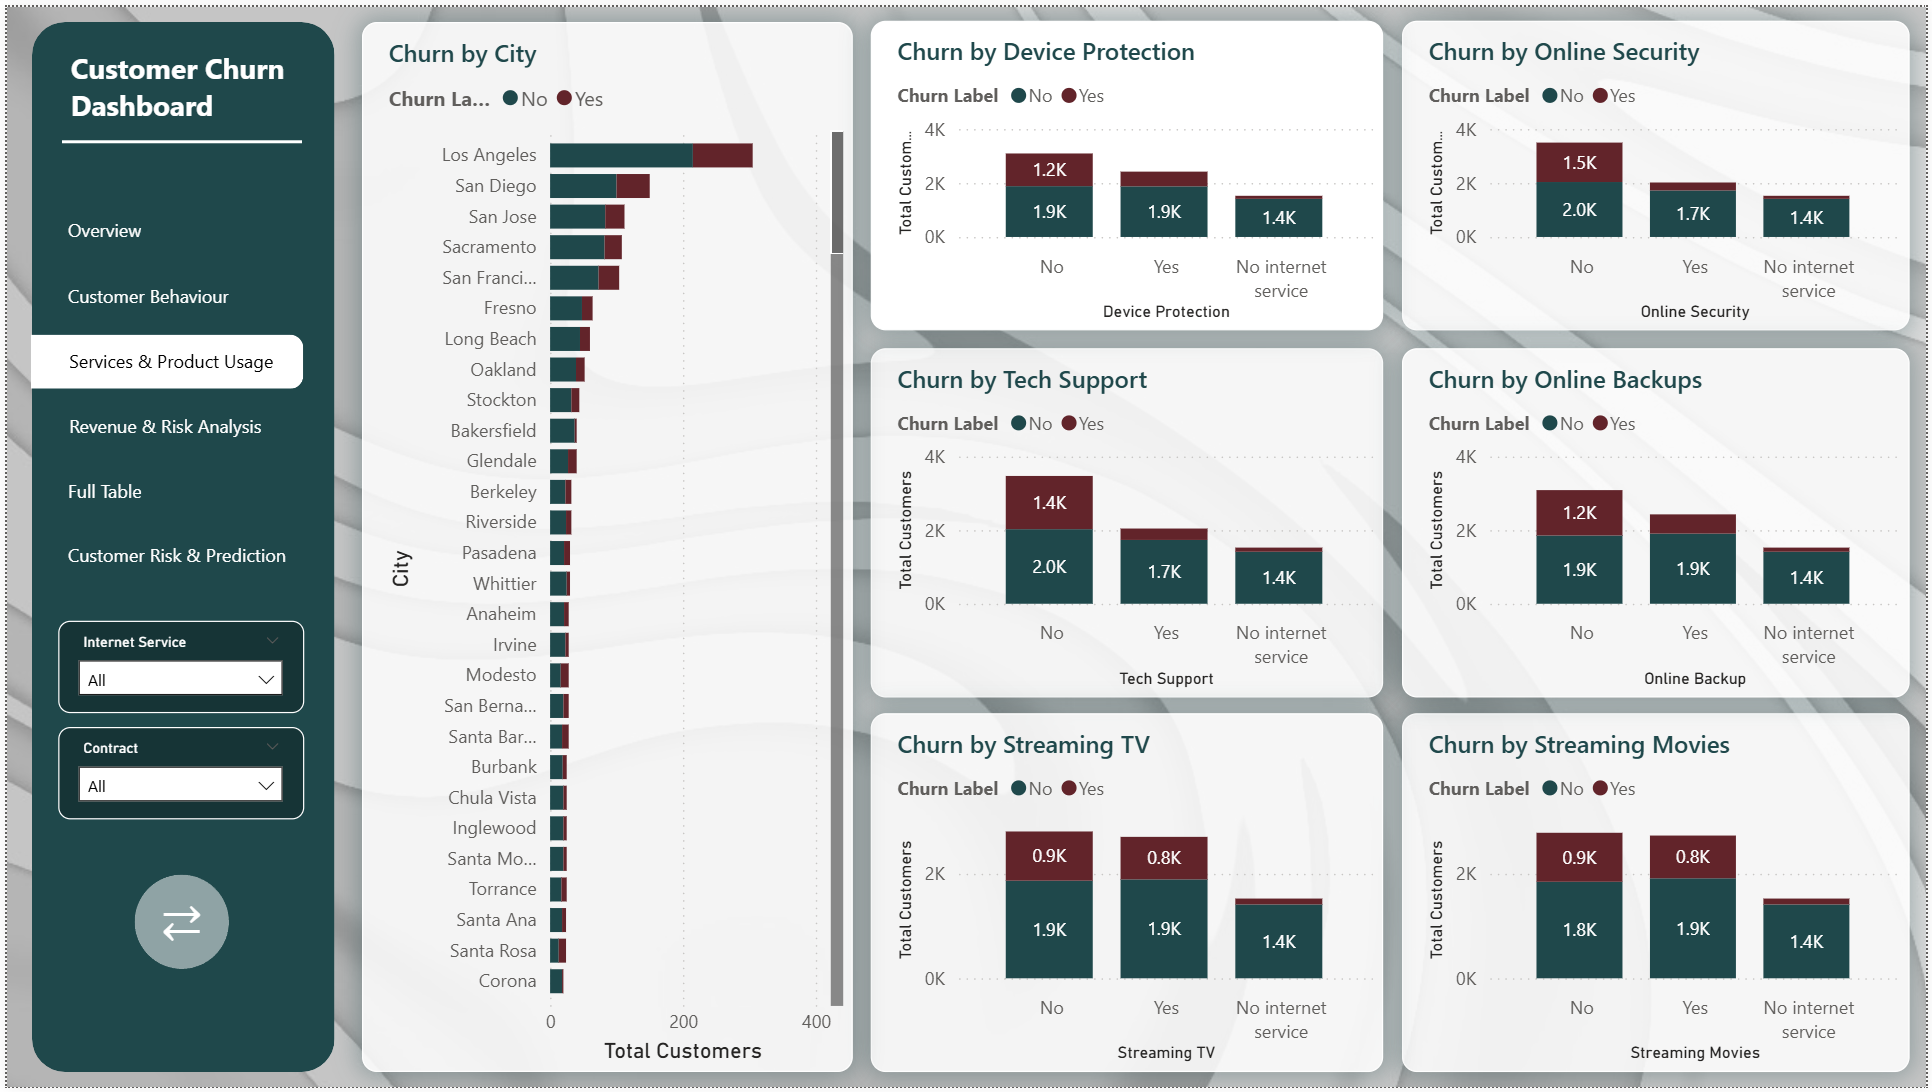

The page's visual inventory and layout, read from the dashboard file:
{"tool":"powerbi","page":{"name":"Services and Product Usage","canvas":[1280,720],"ordinal":2},"visuals":[{"type":"shape","box":[16.8,9.7,201.8,700],"z":0},{"type":"textbox","box":[37.3,23,161.1,96.8],"z":1000},{"type":"columnChart","title":"Churn by Streaming Movies","fields":{"Category":["Dataset.Streaming Movies"],"Series":["Dataset.Churn Label"],"Y":["Dataset.Total Customers"]},"box":[930.2,470.6,338.1,238.9],"z":2000},{"type":"columnChart","title":"Churn by Tech Support","fields":{"Category":["Dataset.Tech Support"],"Series":["Dataset.Churn Label"],"Y":["Dataset.Total Customers"]},"box":[576.2,227.8,341.3,232.5],"z":3000},{"type":"columnChart","title":"Churn by Online Security","fields":{"Category":["Dataset.Online Security"],"Series":["Dataset.Churn Label"],"Y":["Dataset.Total Customers"]},"box":[930.2,9.5,338.1,206.3],"z":4000},{"type":"columnChart","title":"Churn by Streaming TV","fields":{"Category":["Dataset.Streaming TV"],"Series":["Dataset.Churn Label"],"Y":["Dataset.Total Customers"]},"box":[576.2,470.6,341.3,238.9],"z":5000},{"type":"columnChart","title":"Churn by Online Backups","fields":{"Category":["Dataset.Online Backup"],"Series":["Dataset.Churn Label"],"Y":["Dataset.Total Customers"]},"box":[930.2,227.8,338.1,232.5],"z":7000},{"type":"barChart","title":"Churn by City","fields":{"Category":["Dataset.City"],"Series":["Dataset.Churn Label"],"Y":["Dataset.Total Customers"]},"box":[236.5,9.7,326.9,699.9],"z":8000},{"type":"columnChart","title":"Churn by Device Protection","fields":{"Series":["Dataset.Churn Label"],"Category":["Dataset.Device Protection"],"Y":["Dataset.Total Customers"]},"box":[576.2,9.5,341.3,206.3],"z":9000}]}

Visuals, with their boxes in screenshot pixels (x1, y1, x2, y2), scaled from the page's 1280x720 canvas onto the 1932x1092 screenshot:
shape: (25,15,330,1076)
textbox: (56,35,299,182)
"Churn by Streaming Movies" columnChart: (1404,714,1914,1076)
"Churn by Tech Support" columnChart: (870,345,1385,698)
"Churn by Online Security" columnChart: (1404,14,1914,327)
"Churn by Streaming TV" columnChart: (870,714,1385,1076)
"Churn by Online Backups" columnChart: (1404,345,1914,698)
"Churn by City" barChart: (357,15,850,1076)
"Churn by Device Protection" columnChart: (870,14,1385,327)
